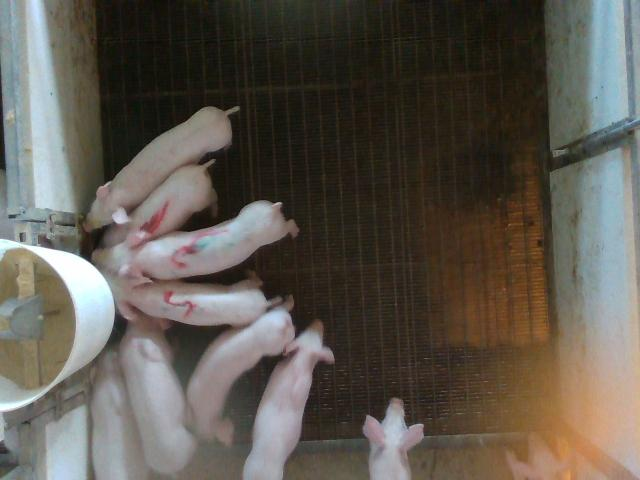pig-1: (101, 160, 218, 248)
pig-3: (92, 200, 299, 286)
pig-5: (105, 272, 275, 326)
